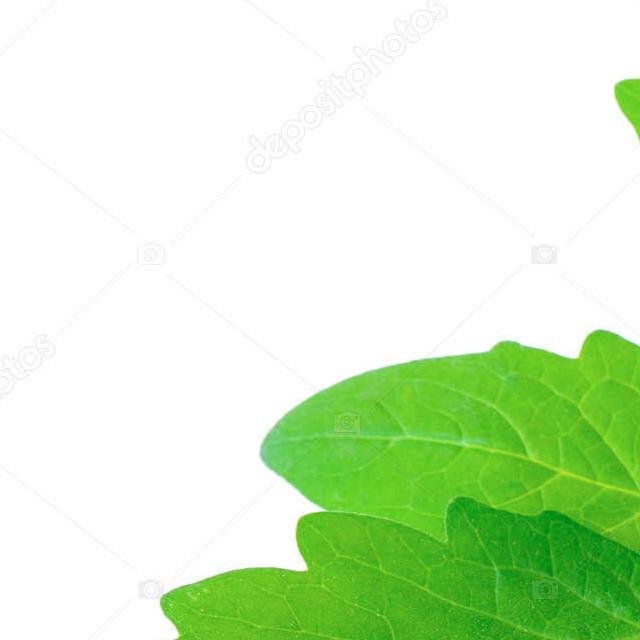Tomato leaf: (255, 313, 640, 621), (0, 504, 640, 640), (585, 38, 640, 391)
